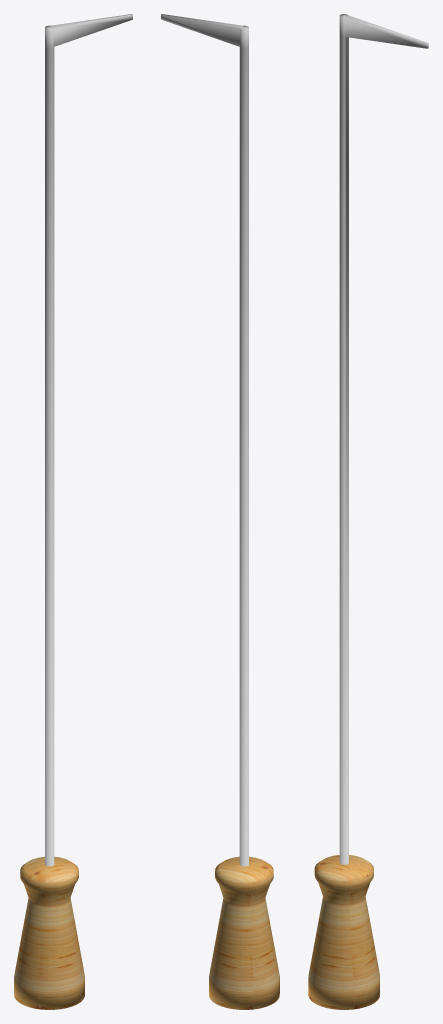
File: Poker.fbx
3 views of the same model, side by side, from view 1: azimuth 30°, elevation 25°; view 2: azimuth 150°, elevation 25°; view 3: azimuth 330°, elevation 25° (orthographic).
Parts seen in each view (by area): view 1: Steel, Grip; view 2: Steel, Grip; view 3: Steel, Grip.
Part boxes in pixels (x1,y1,x2,y2): Steel: [45, 14, 132, 866]; Grip: [14, 856, 84, 1009]; Steel: [161, 14, 248, 866]; Grip: [209, 856, 279, 1009]; Steel: [339, 14, 428, 864]; Grip: [308, 855, 379, 1009].
Bounding box in the file's own units: 67.58 × 549 × 36.5.
